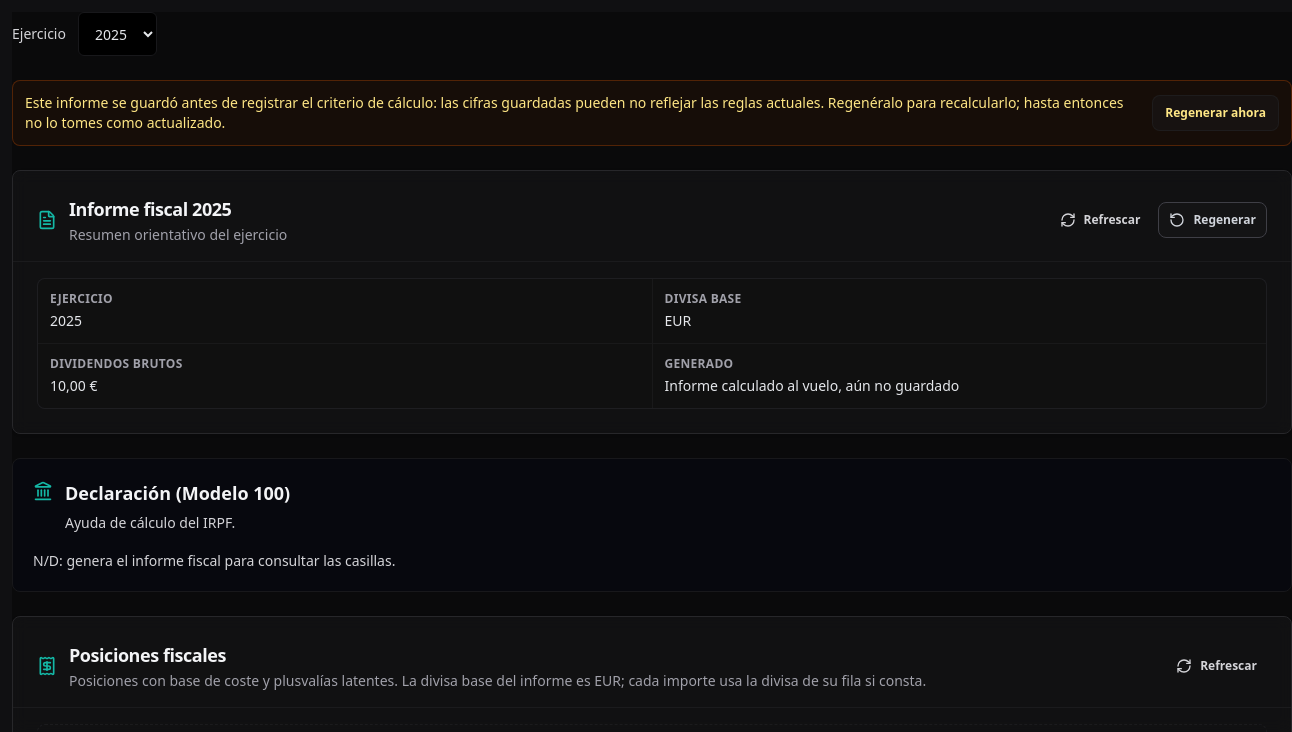
Test: TaxesView aviso de informe desactualizado › «Regenerar ahora» regenera y el aviso desaparece cuando el informe nuevo viene al día
The width and height of the screenshot is (1292, 732).
What coordinates should you click on to do the following:
click the button "Regenerar ahora"
I would click on:
 (1216, 113)
Its box is [1152,95,1279,131].
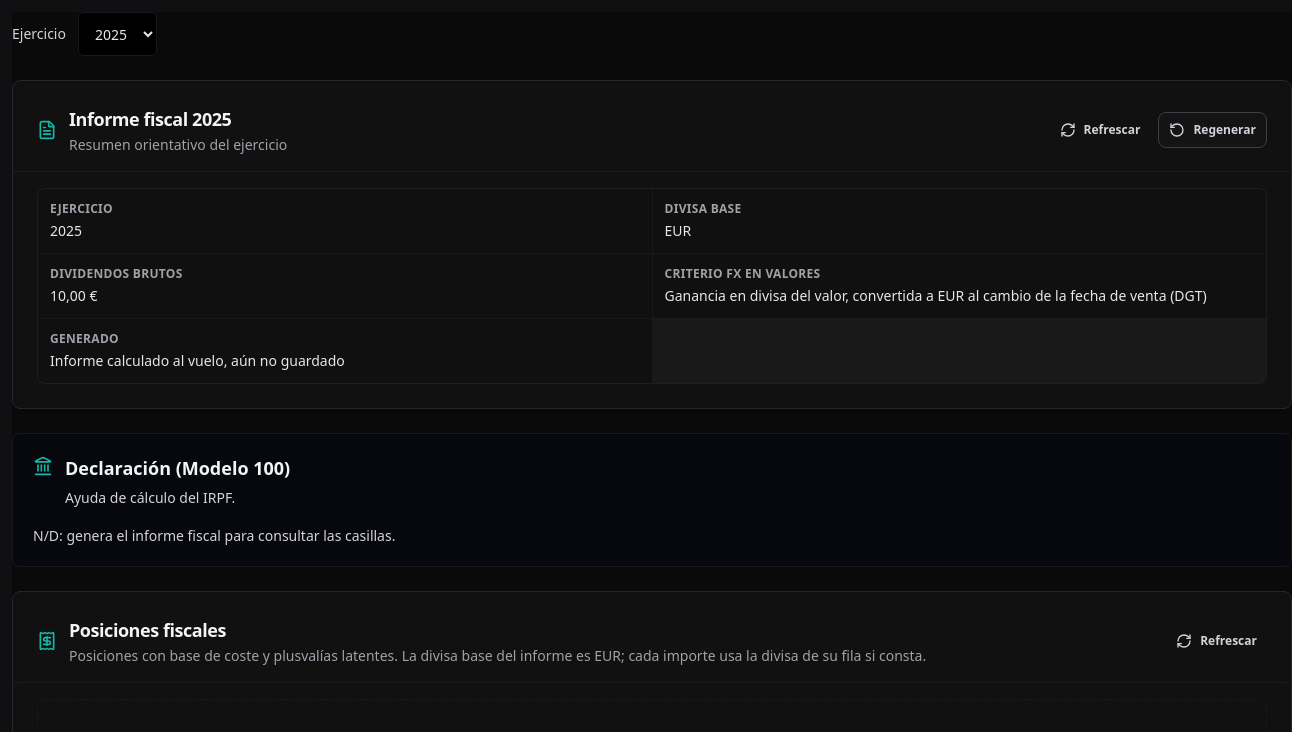
Expected: the message is gone
